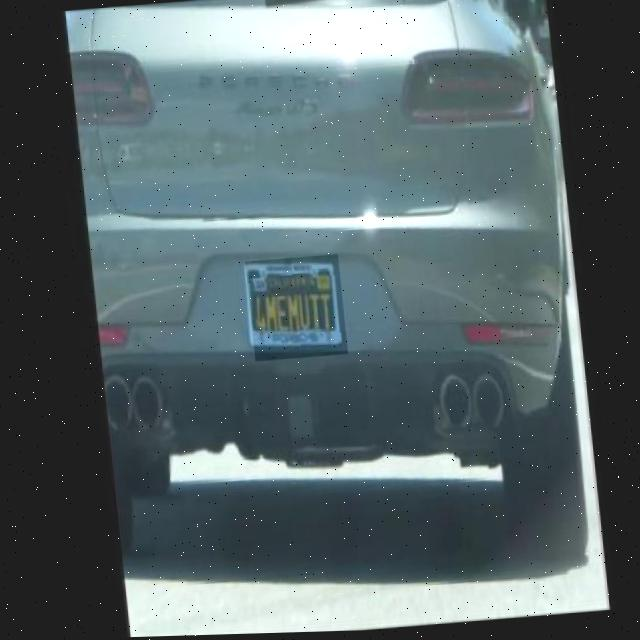LicensePlate: (242, 256, 344, 363)
